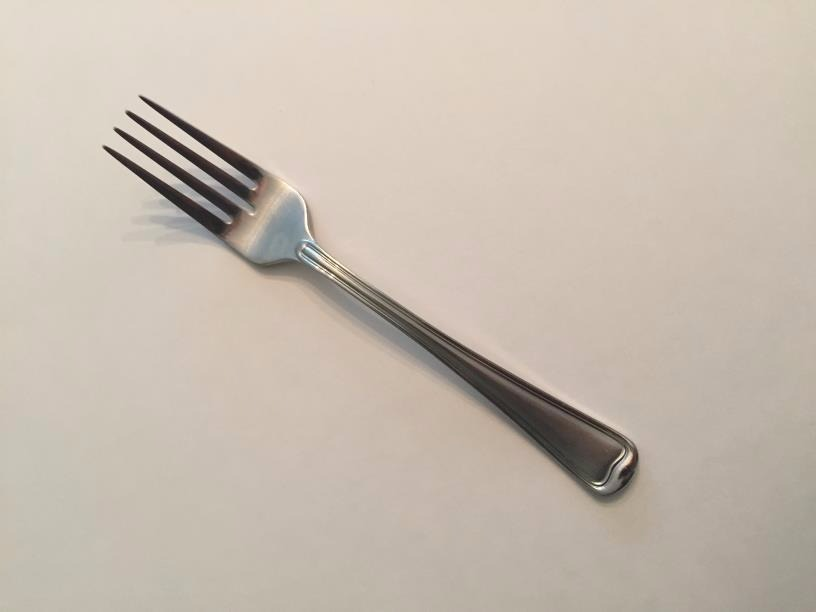fork: (92, 78, 646, 518)
